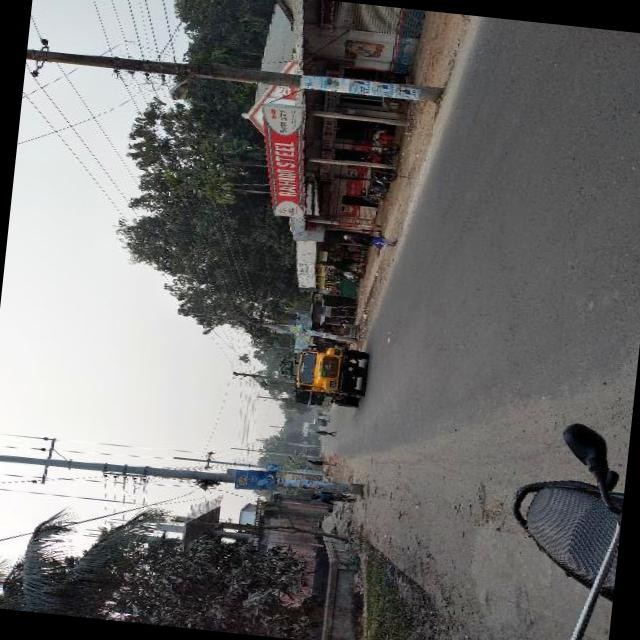motorcycle: (474, 408, 630, 640), (358, 138, 400, 188), (339, 300, 355, 322), (312, 418, 328, 427)
truck: (274, 338, 370, 412)
